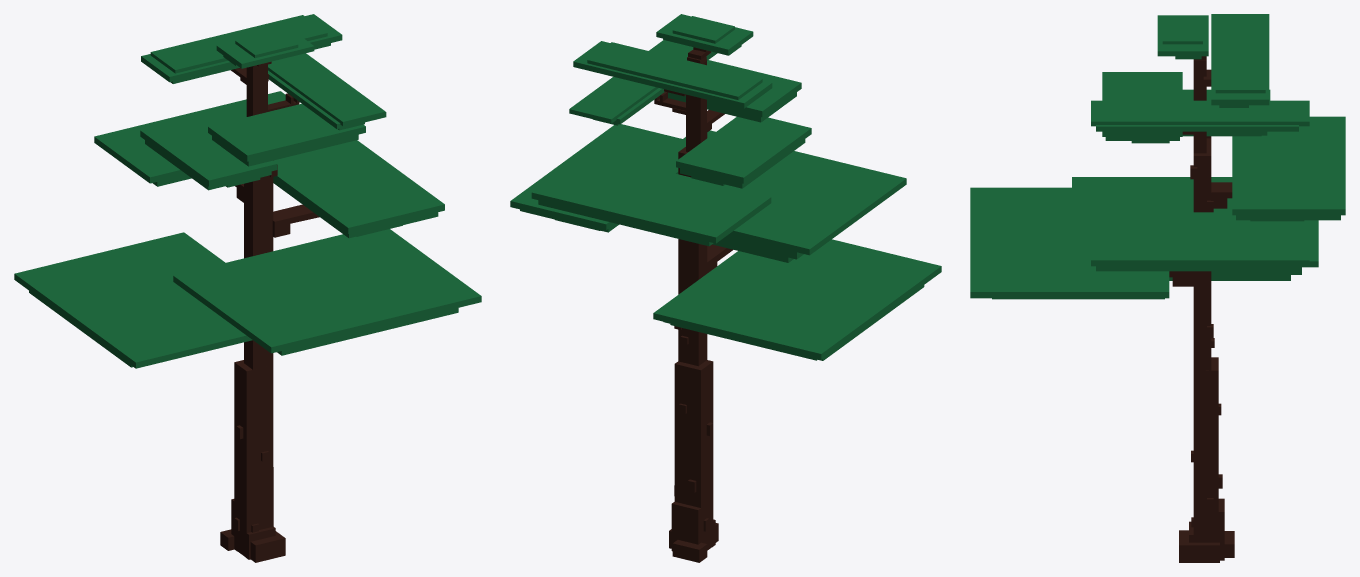
Rendered from TREE4.glb.
3 views of the same model, side by side, from view 1: azimuth 30°, elevation 25°; view 2: azimuth 150°, elevation 25°; view 3: azimuth 270°, elevation 25° (orthographic). The views are drawn at different scales.
Visible parts, largest first — view 1: Shrubs, Trunk; view 2: Shrubs, Trunk; view 3: Shrubs, Trunk.
Part boxes in pixels (x1,y1,x2,y2): Shrubs: [14, 14, 481, 368]; Trunk: [220, 61, 319, 562]; Shrubs: [510, 14, 941, 360]; Trunk: [654, 47, 733, 562]; Shrubs: [970, 14, 1345, 299]; Trunk: [1169, 56, 1234, 562].
Size of the model in its own units: 4.82 by 7.46 by 4.84.
